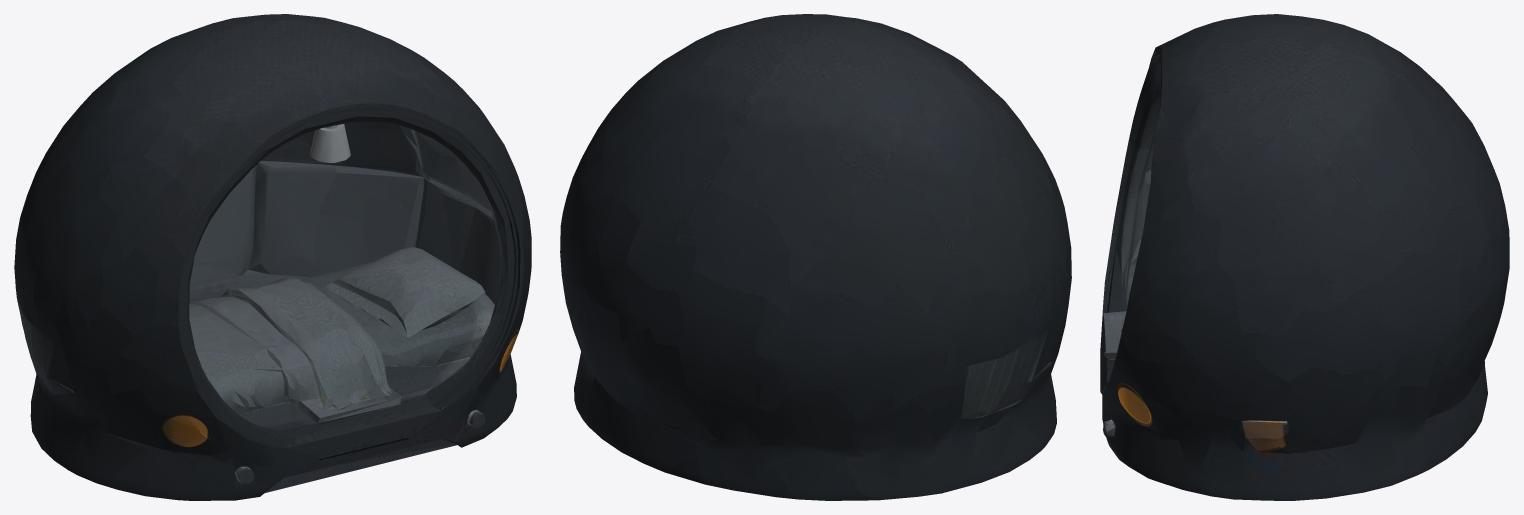
Rendered from lit_repos.glb.
The picture shows the model from 3 angles, left to right: view 1: azimuth 30°, elevation 25°; view 2: azimuth 150°, elevation 25°; view 3: azimuth 270°, elevation 25°; orthographic projection. The views are drawn at different scales.
Size of the model in its own units: 1.9 by 1.49 by 1.53.
1 material, 1 textured.
